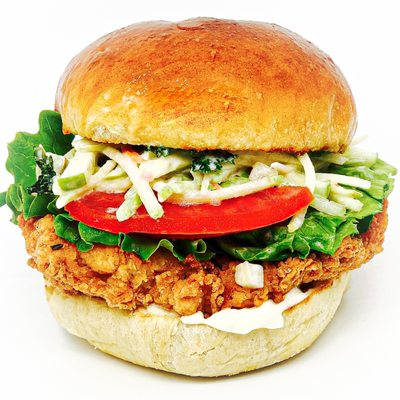soup: (5, 16, 361, 325)
